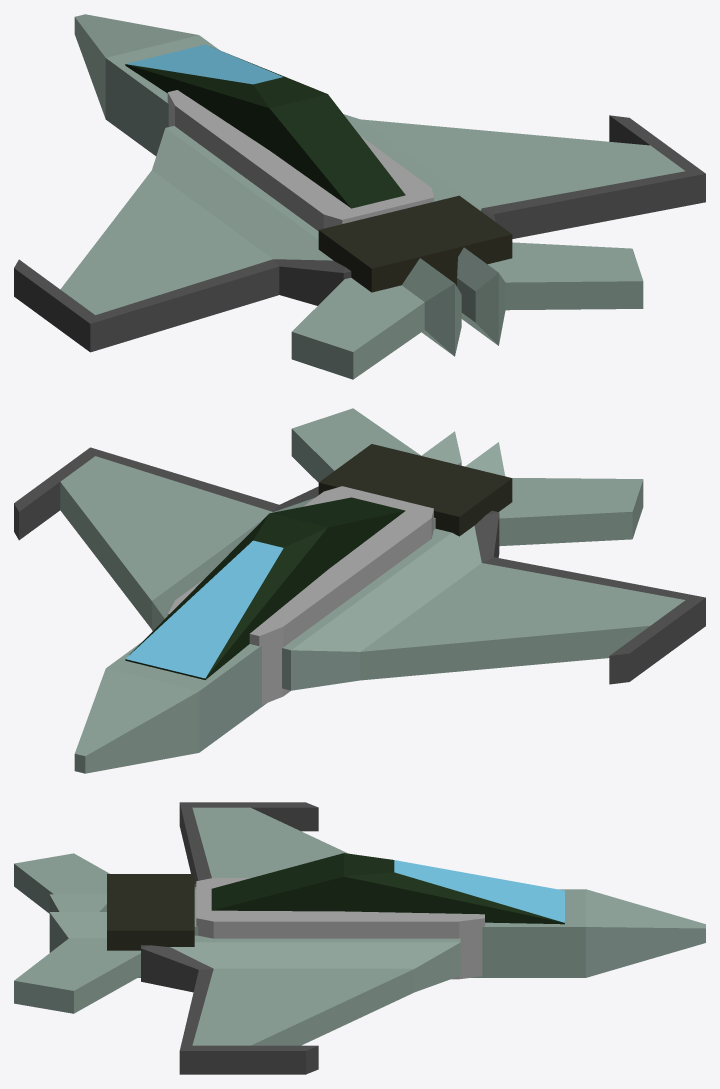
The model's file is allyaircraft.fbx.
3 renders of one model, top to bottom at view 1: azimuth 30°, elevation 25°; view 2: azimuth 150°, elevation 25°; view 3: azimuth 270°, elevation 25°, orthographic. The views are drawn at different scales.
Visible parts, largest first — view 1: allyaircraft; view 2: allyaircraft; view 3: allyaircraft.
Boxes of the visible parts, x1=… form: allyaircraft: x1=14, y1=14, x2=705, y2=379; allyaircraft: x1=14, y1=408, x2=705, y2=773; allyaircraft: x1=14, y1=802, x2=705, y2=1074.
Size of the model in its own units: 357 by 66.43 by 420.
